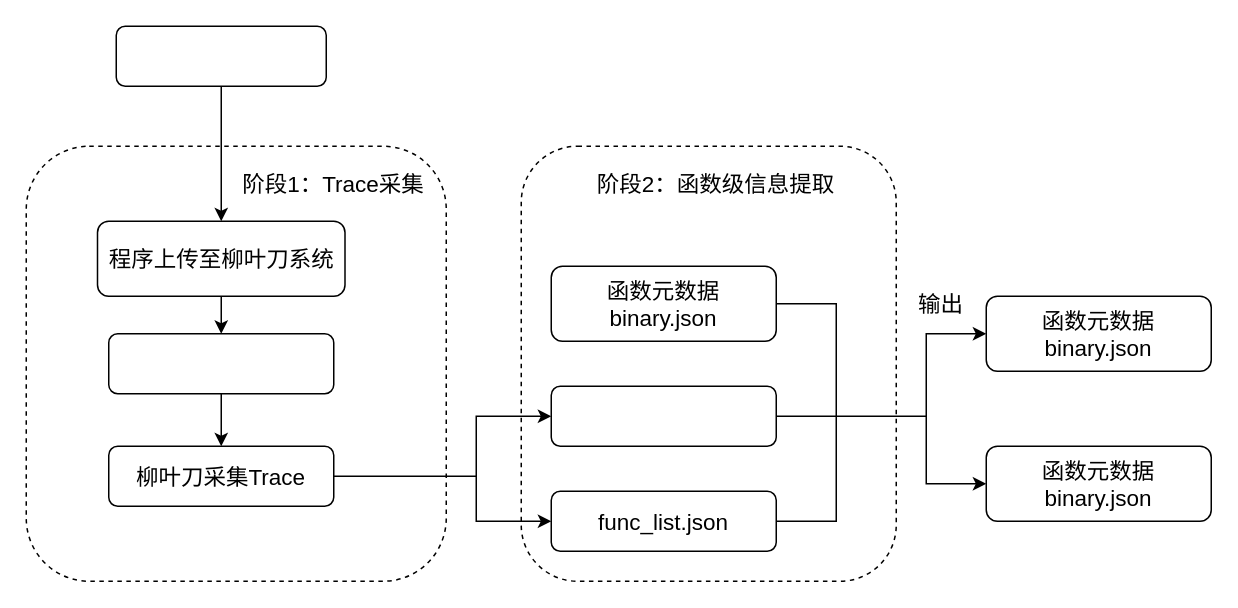
The diagram is 1238 pixels wide and 608 high, and some of its shapes have lost their labels. The centre of each missing label's shape, as x and y in pixels:
call_trace.json: the point at 663,415
程序正常运行: the point at 220,363
输入：二进制程序: the point at 220,55
